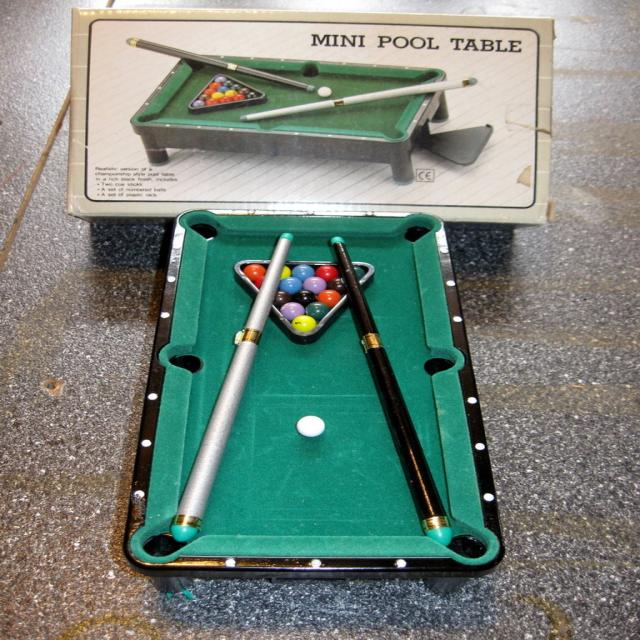Ball: (240, 261, 368, 339), (192, 75, 259, 107), (296, 415, 326, 438), (318, 85, 334, 98)
Billiard table: (123, 208, 505, 594), (123, 36, 494, 185)
